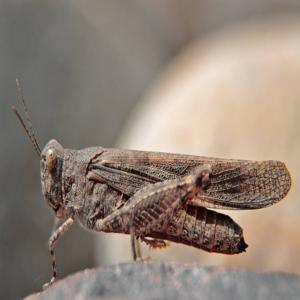locust: (17, 114, 295, 285)
